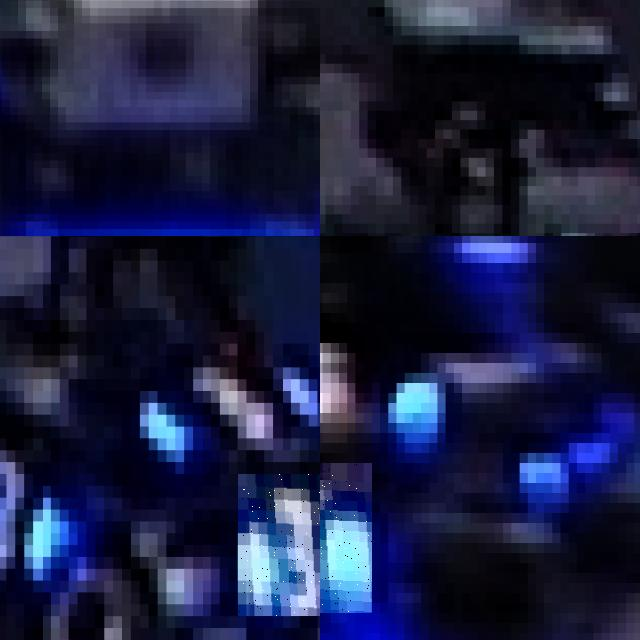B3: (237, 474, 320, 616), (0, 438, 59, 592)
B5: (320, 463, 371, 613)
